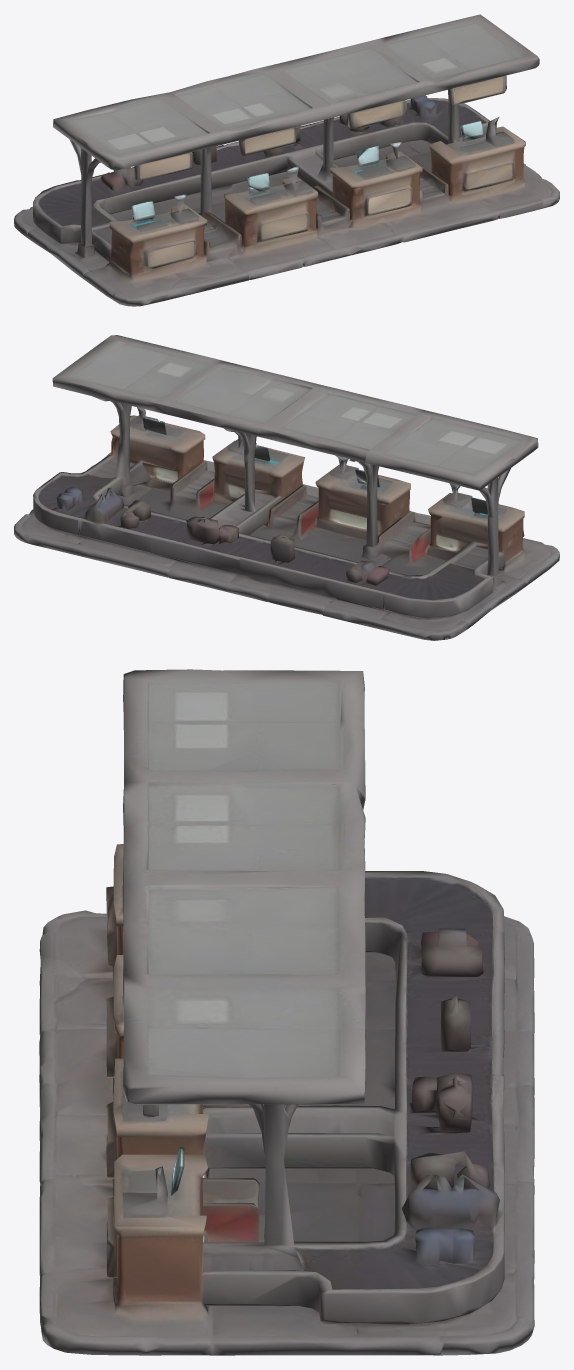
The model's file is airport_checkin.glb.
3 renders of one model, top to bottom at view 1: azimuth 30°, elevation 25°; view 2: azimuth 150°, elevation 25°; view 3: azimuth 270°, elevation 25°, orthographic. The views are drawn at different scales.
Visible parts, largest first — view 1: tripo_node_7ecdcc28-553f-4102-aea9-910cfb7954f1; view 2: tripo_node_7ecdcc28-553f-4102-aea9-910cfb7954f1; view 3: tripo_node_7ecdcc28-553f-4102-aea9-910cfb7954f1.
Boxes of the visible parts, box(x1,y1,x2,y2) form: tripo_node_7ecdcc28-553f-4102-aea9-910cfb7954f1: box(14, 14, 559, 306); tripo_node_7ecdcc28-553f-4102-aea9-910cfb7954f1: box(14, 335, 559, 640); tripo_node_7ecdcc28-553f-4102-aea9-910cfb7954f1: box(39, 669, 534, 1355).
Bounding box in the file's own units: 1 × 0.2829 × 0.4834.
Materials: 1 (1 with a texture image).
